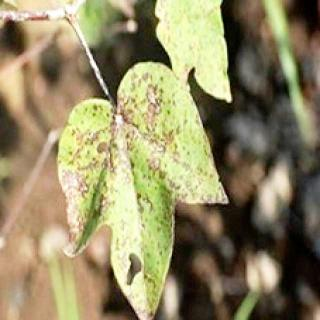leaf spot: (61, 64, 227, 304)
